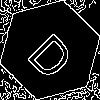D: (25, 25, 83, 83)
